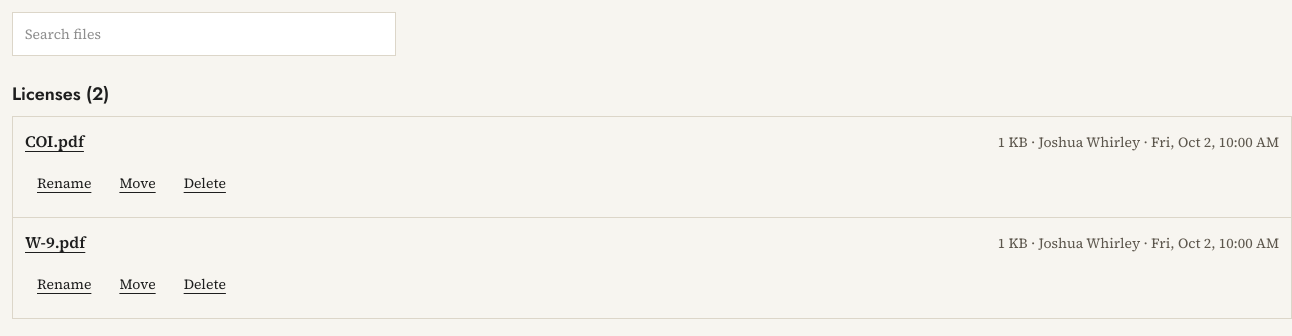
it: ResourceList › warns before deleting a file tasks link to
Click the button with aria-label "Delete W-9.pdf".
click(205, 284)  # box [172, 262, 238, 306]
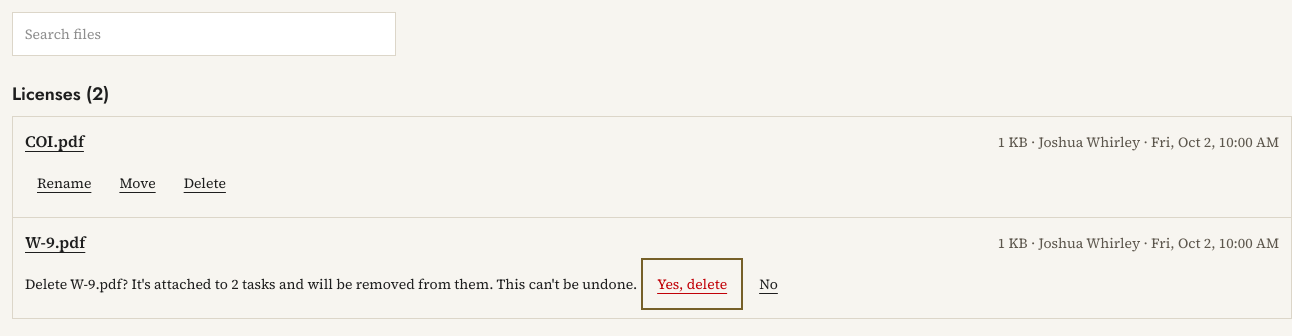
Expected: the text "Delete W-9.pdf? It's attached to 2 tasks and will be removed from them. This can't be undone." is shown, [25, 274, 637, 294]
Click the button with aria-label "Delete COI.pdf".
click(205, 183)  # box [172, 161, 238, 205]
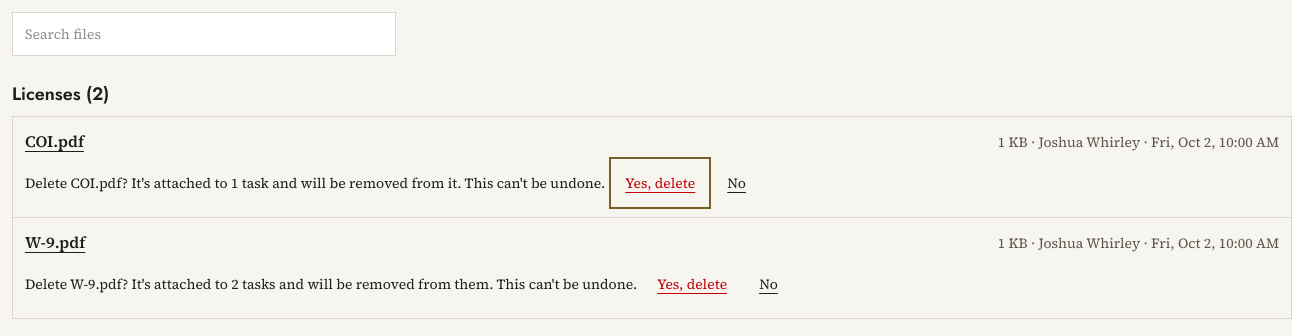
Expected: the text "Delete COI.pdf? It's attached to 1 task and will be removed from it. This can't be undone." is shown, [25, 173, 605, 193]
